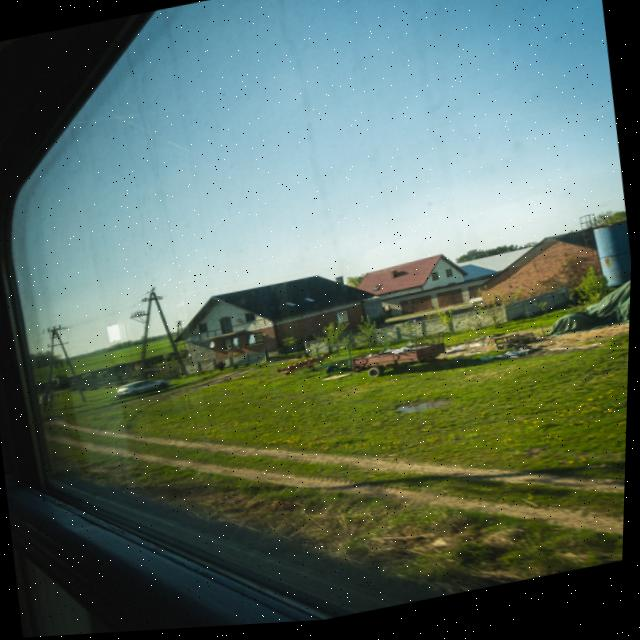building: (170, 262, 380, 373), (474, 226, 601, 314), (357, 248, 470, 322)
